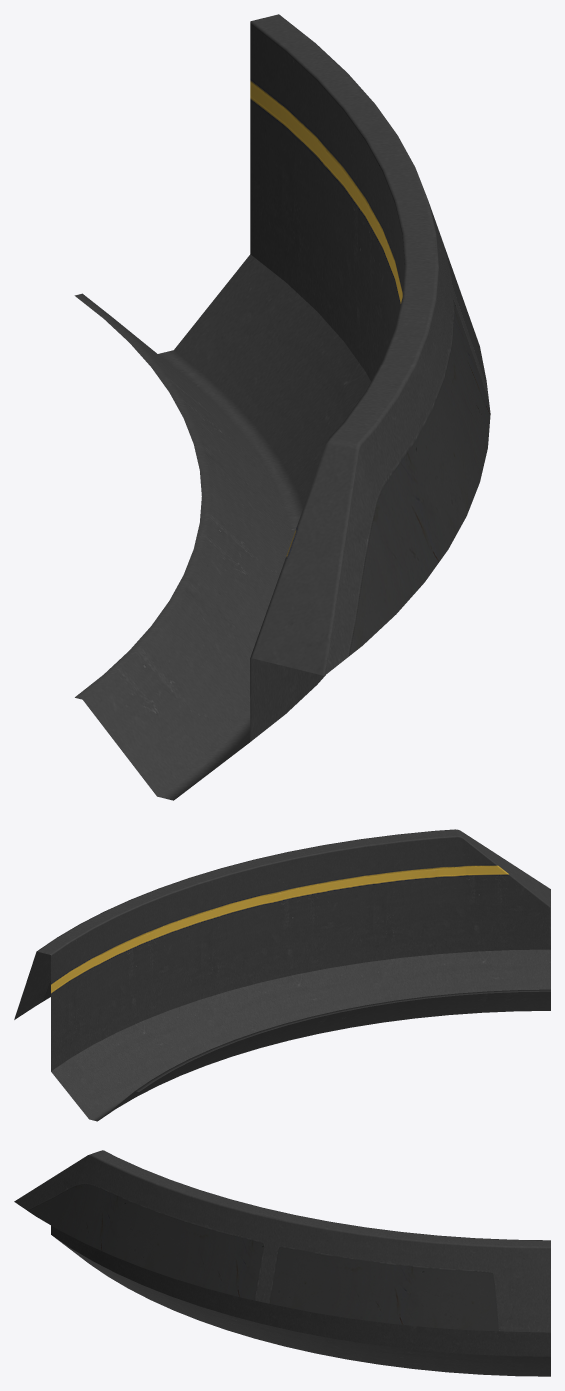
File: ListeningRoomPlatformText.fbx
3 views of the same model, one above another, from view 1: azimuth 30°, elevation 25°; view 2: azimuth 150°, elevation 25°; view 3: azimuth 270°, elevation 25° (orthographic). The views are drawn at different scales.
Parts seen in each view (by area): view 1: ListeningRoomPlatformText001; view 2: ListeningRoomPlatformText001; view 3: ListeningRoomPlatformText001.
Part boxes in pixels (x1,y1,x2,y2): ListeningRoomPlatformText001: (74, 14, 490, 800); ListeningRoomPlatformText001: (14, 829, 550, 1121); ListeningRoomPlatformText001: (14, 1150, 550, 1376).
Size of the model in its own units: 286 by 128 by 402.
